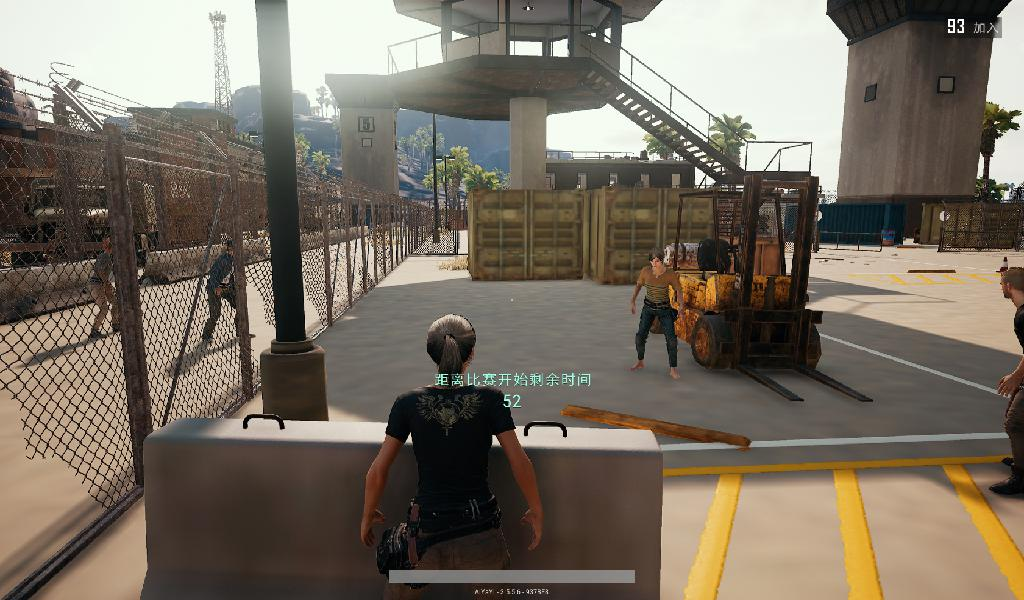Target Person: (358, 311, 545, 600), (628, 246, 688, 384), (994, 264, 1024, 501), (201, 240, 256, 341), (86, 238, 130, 342)
